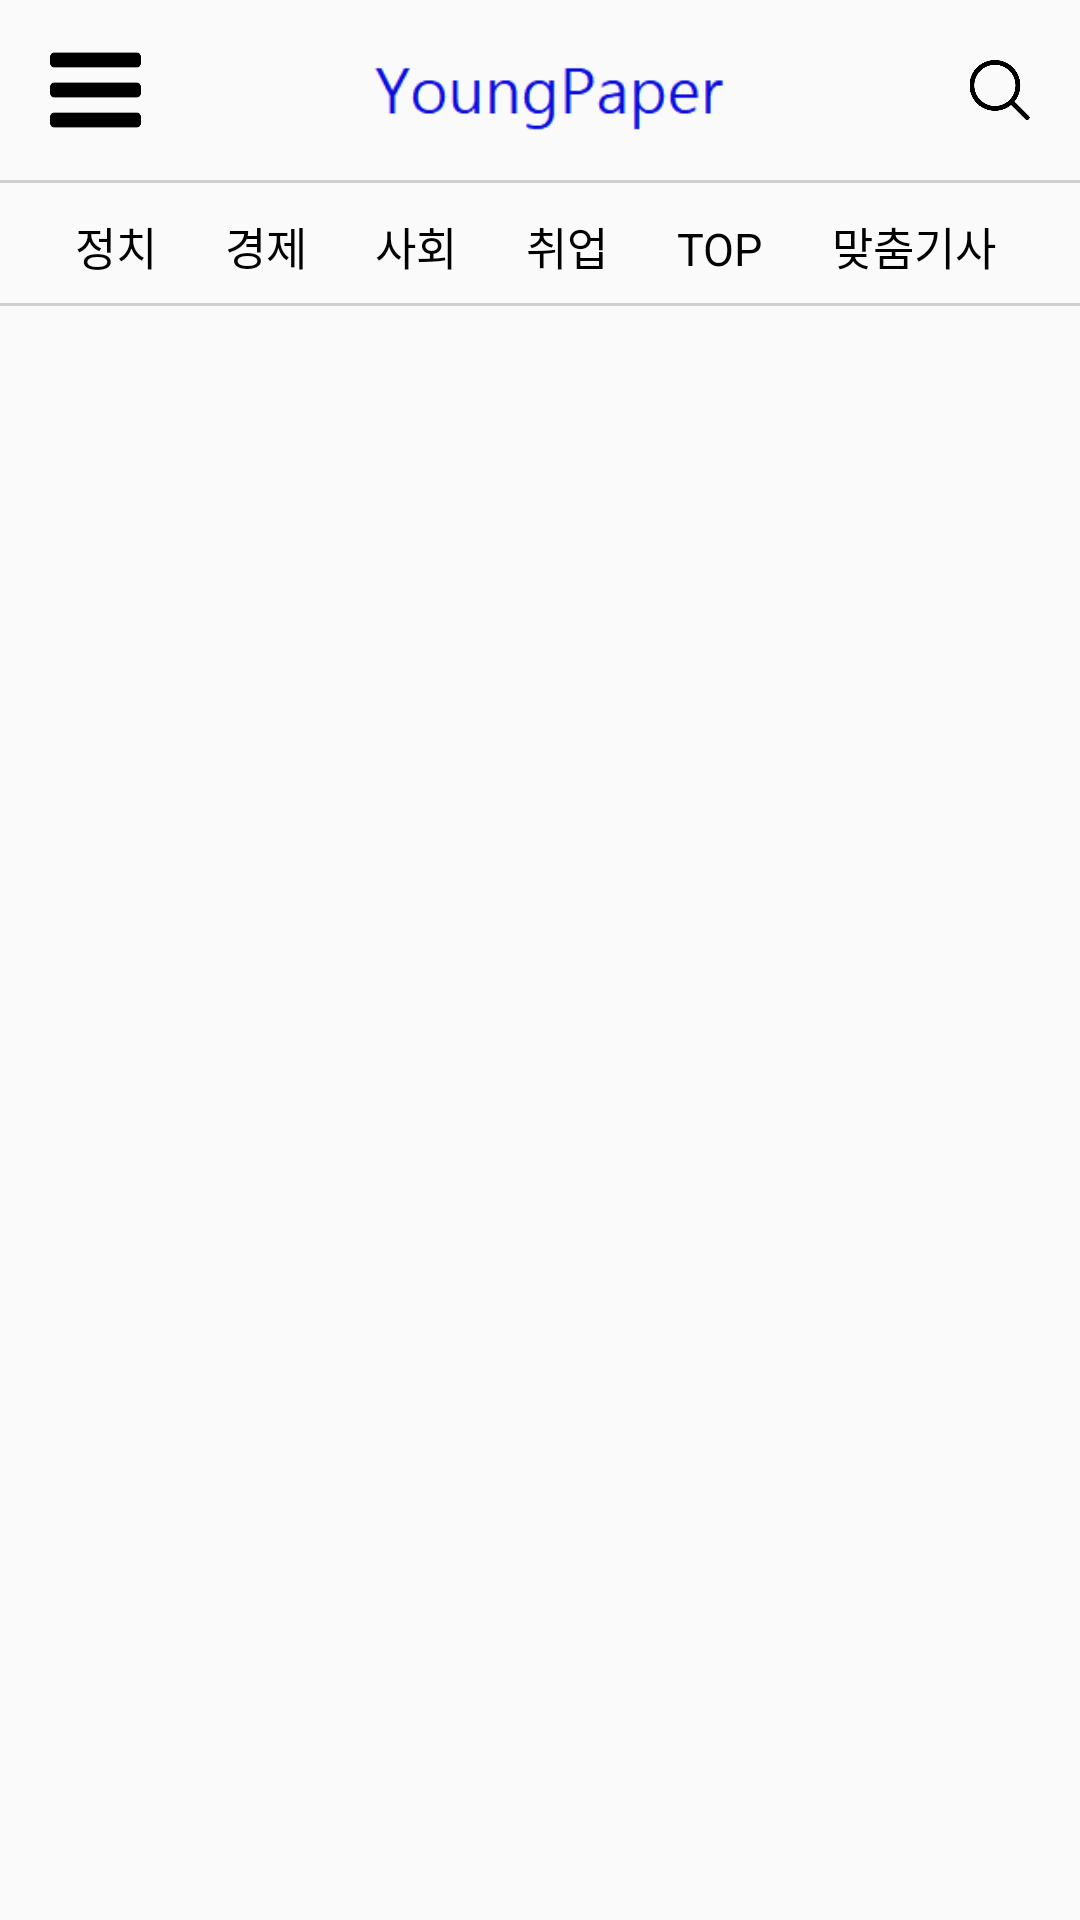

Locate icon controls on the screen. Image size 1080x1920, boxes as {"left": x1, "top": y1, "right": x2, "bottom": y2}.
menu: {"left": 50, "top": 52, "right": 141, "bottom": 128}
search: {"left": 970, "top": 60, "right": 1030, "bottom": 120}
